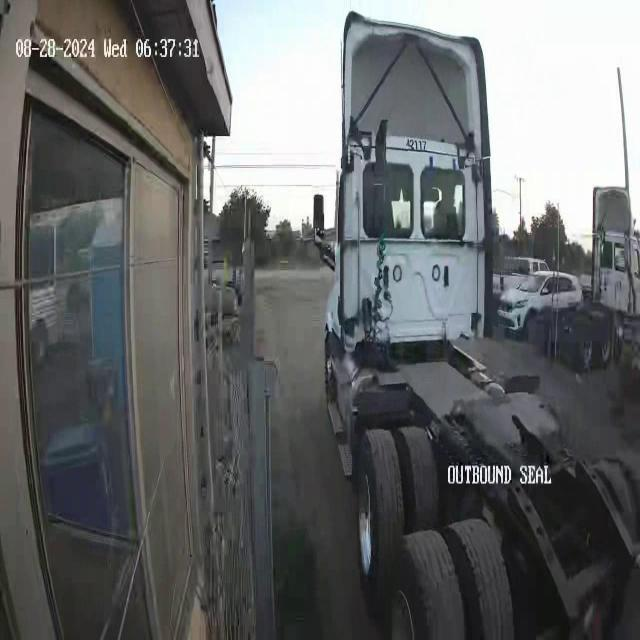TRUCK_OUT: (321, 11, 639, 637)
